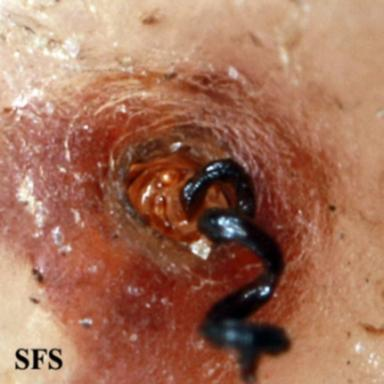Tungiasis: (0, 62, 334, 382)
